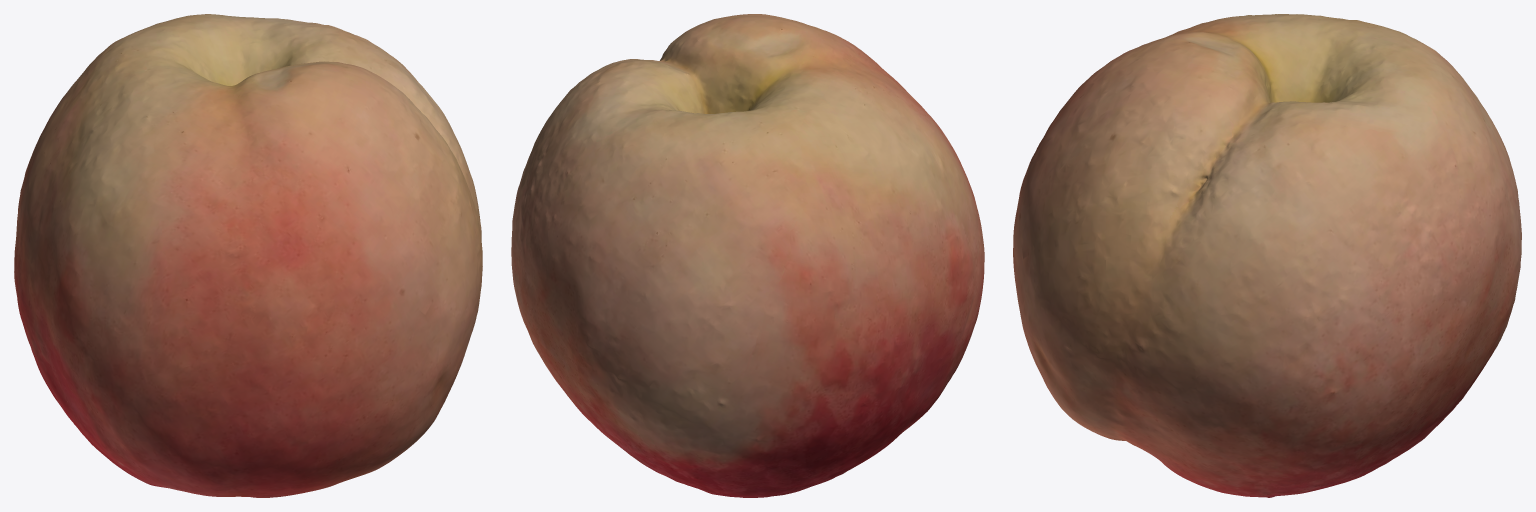
File: nectarine-2.glb
The picture shows the model from 3 angles, left to right: view 1: azimuth 30°, elevation 25°; view 2: azimuth 150°, elevation 25°; view 3: azimuth 270°, elevation 25°; orthographic projection. The views are drawn at different scales.
Parts seen in each view (by area): view 1: Object_2; view 2: Object_2; view 3: Object_2.
Part boxes in pixels (<box>): Object_2: <box>14,14,482,497</box>; Object_2: <box>511,14,984,497</box>; Object_2: <box>1013,14,1521,497</box>.
Size of the model in its own units: 0.9947 by 0.995 by 1.04.
1 material, 1 textured.
